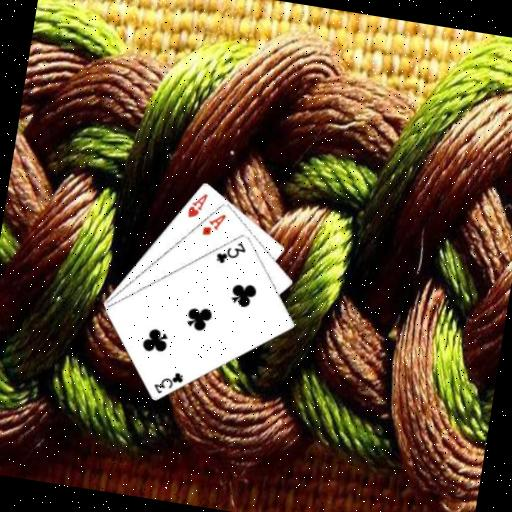3C: (212, 235, 249, 268), (149, 365, 185, 398)
AD: (198, 208, 228, 240)
AH: (183, 187, 210, 222)
